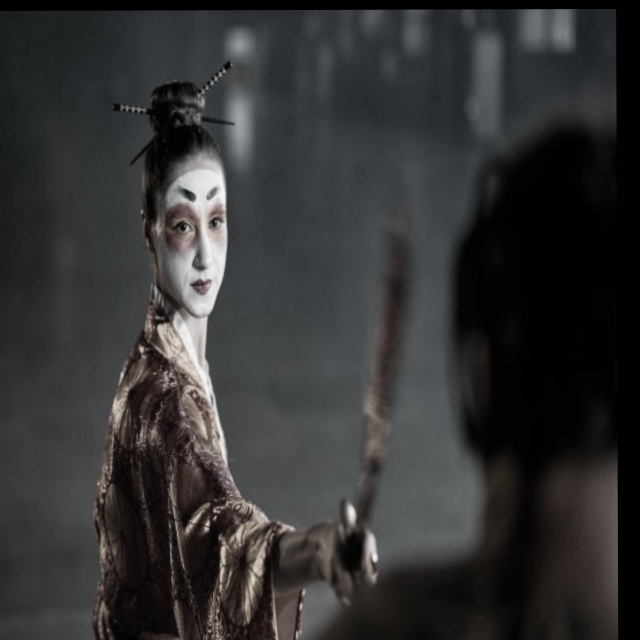Sharp-Object: (321, 212, 422, 599)
